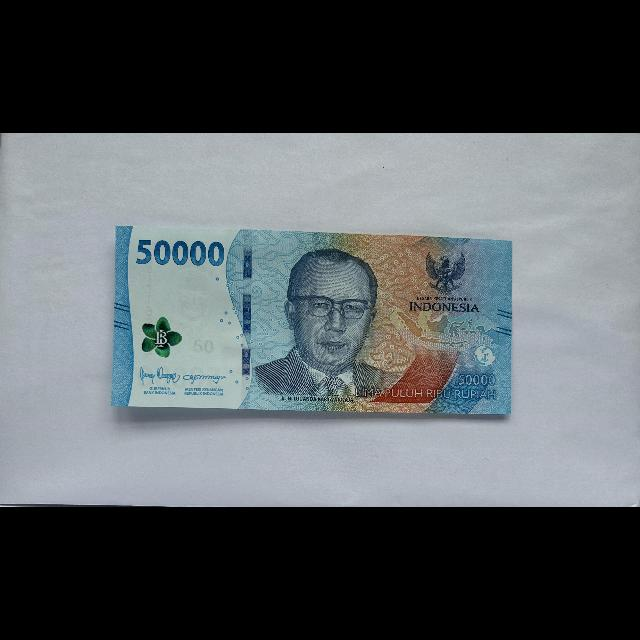Asli-50k: (106, 223, 520, 423)
Tinta-Asli-50k: (142, 316, 183, 359)
